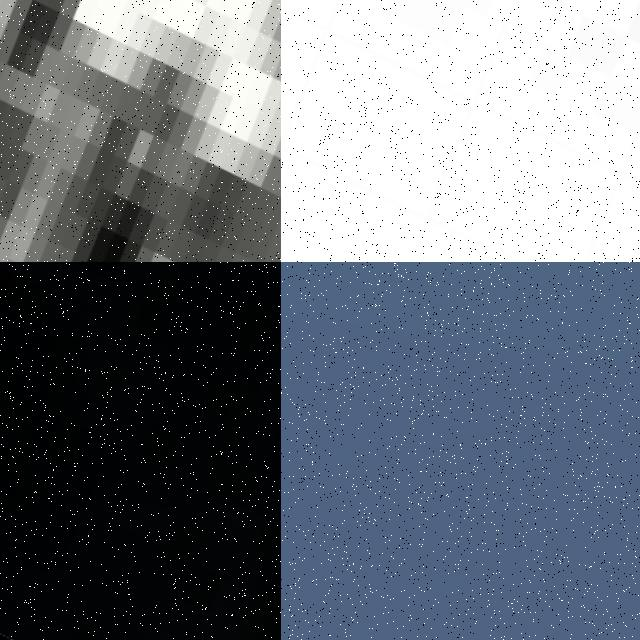drone: (0, 262, 281, 640), (281, 0, 640, 262), (0, 0, 281, 262)
